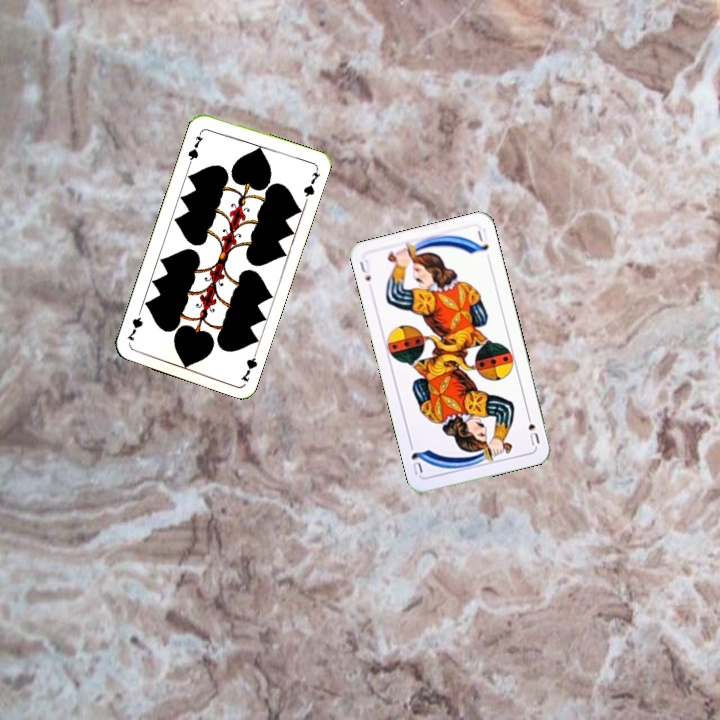G7: (237, 344, 260, 384), (184, 127, 206, 166)
SU: (522, 408, 542, 448), (355, 255, 373, 283)
